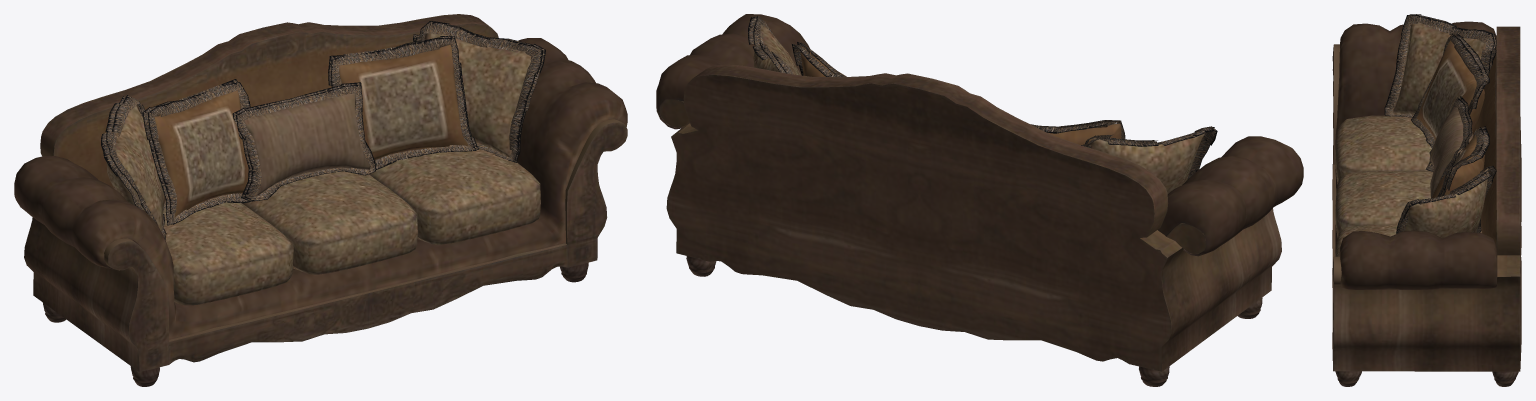
Rendered from sofa_03_2k.gltf.
3 views of the same model, side by side, from view 1: azimuth 30°, elevation 25°; view 2: azimuth 150°, elevation 25°; view 3: azimuth 270°, elevation 25° (orthographic). The views are drawn at different scales.
Visible parts, largest first — view 1: sofa_03; view 2: sofa_03; view 3: sofa_03.
Boxes of the visible parts, box(x1,y1,x2,y2) form: sofa_03: box(14, 14, 627, 386); sofa_03: box(656, 14, 1303, 386); sofa_03: box(1332, 14, 1521, 386).
Size of the model in its own units: 2.73 by 1.12 by 0.9251.
2 materials, 2 textured.
